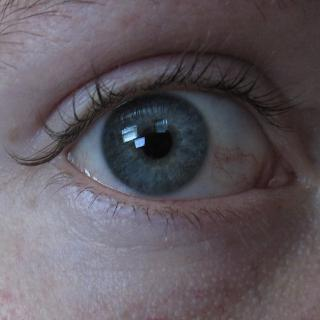pupil: (139, 125, 174, 160)
